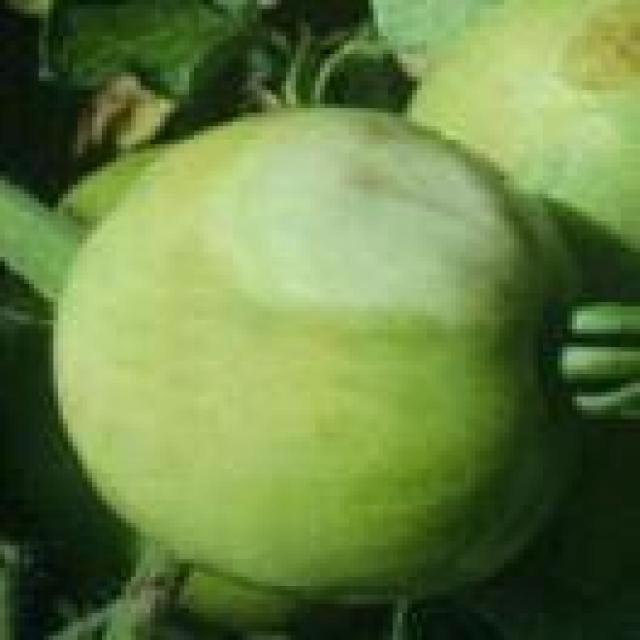Sunscald Fruit: (52, 35, 400, 159)
